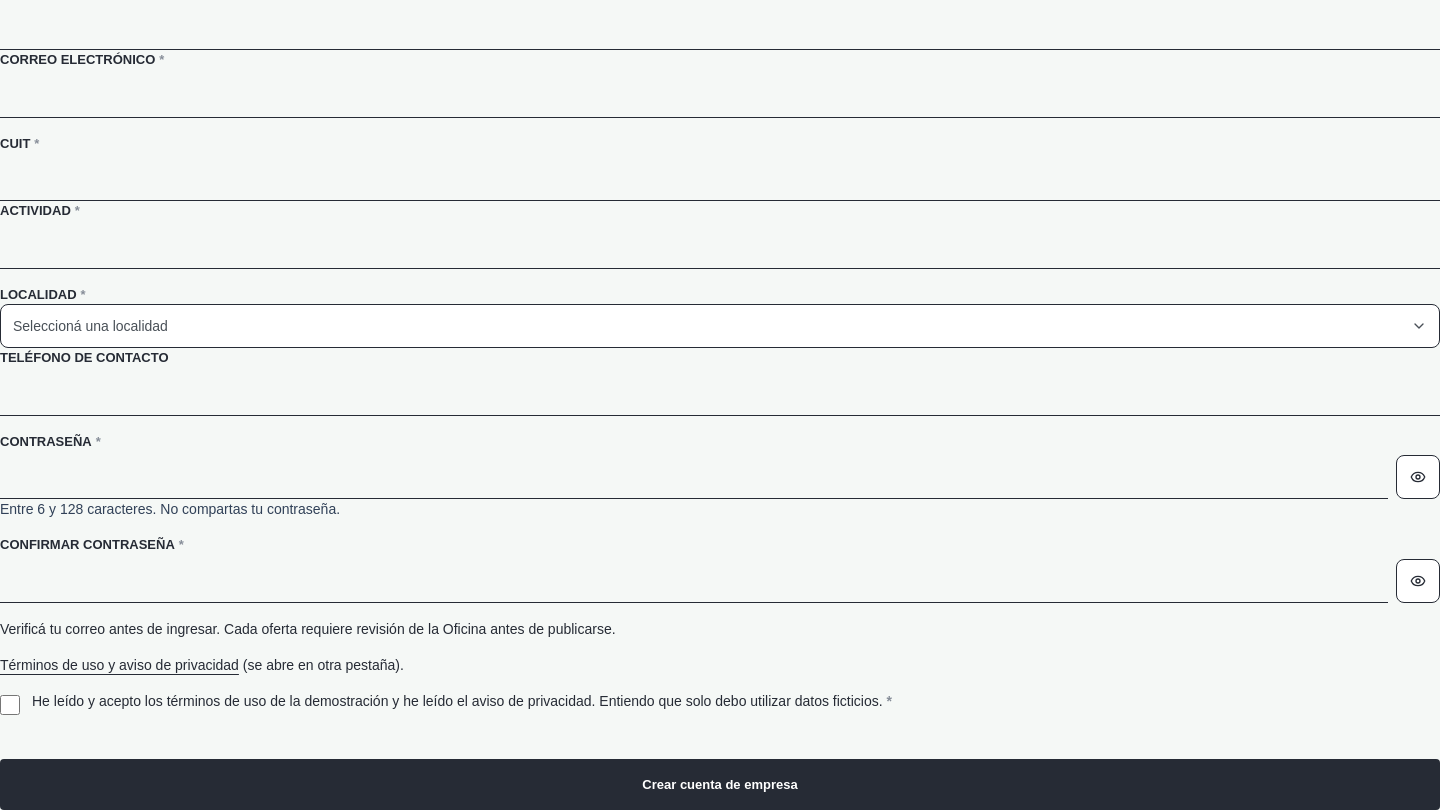
Test case: validación del registro de empresa › conserva los nueve obligatorios, incluidos los términos, sin mensajes repetidos
This screenshot has width=1440, height=810.
(page scrolled)
Click the button "Crear cuenta de empresa": coordinates (720, 784) [0, 758, 1439, 809]
(page scrolled)
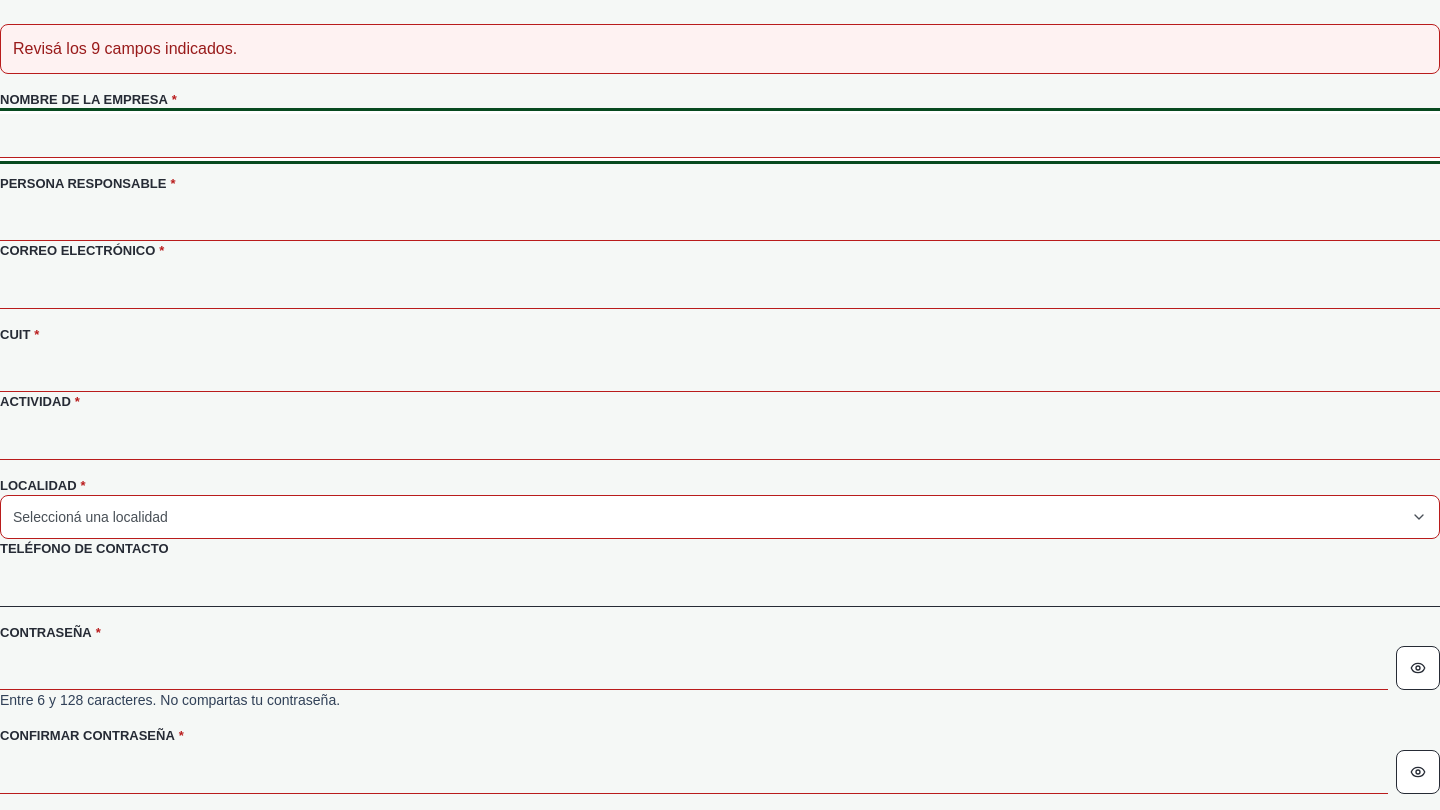
Expected: the text "Revisá los 9 campos indicados." is shown, [0, 24, 1439, 74]
